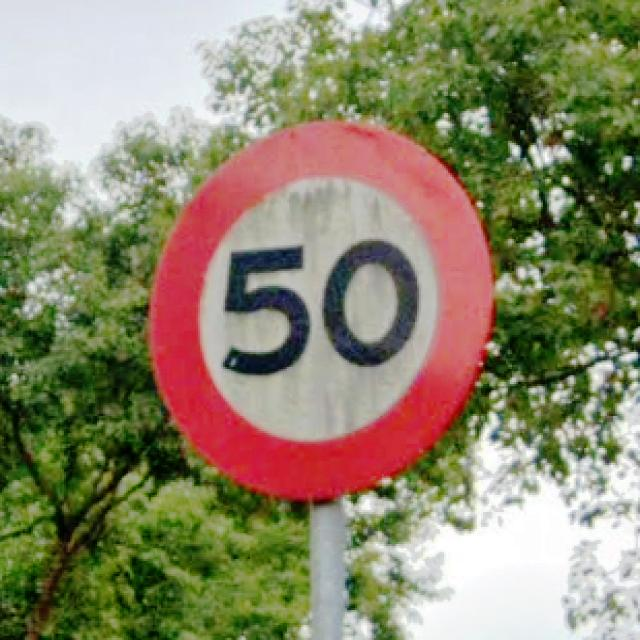max50: (145, 116, 498, 502)
